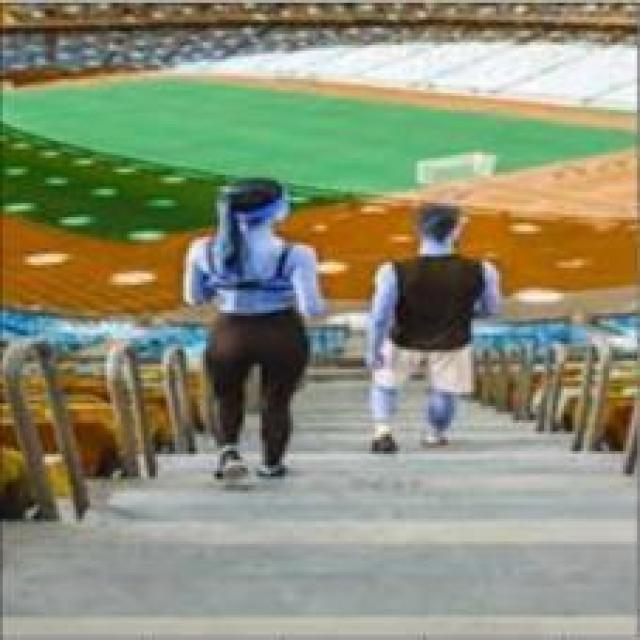downstair: (176, 452, 523, 613)
